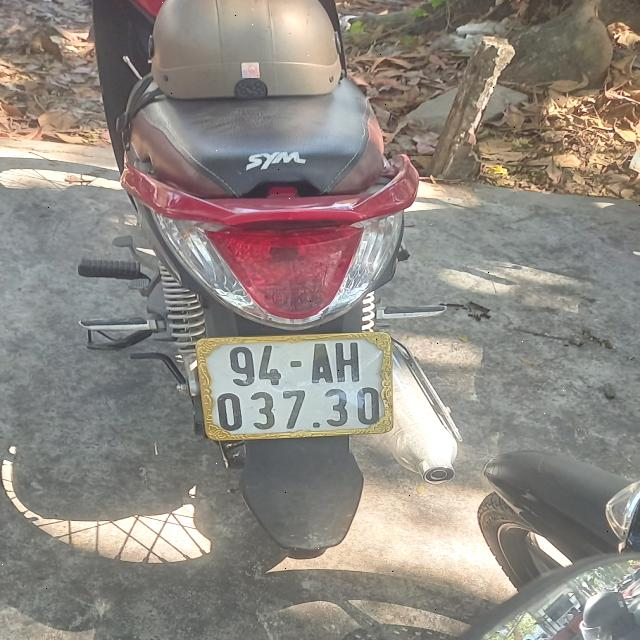0: (215, 393, 243, 431), (357, 386, 382, 425)
3: (250, 391, 278, 431), (324, 388, 349, 428)
4: (258, 344, 284, 386)
7: (282, 388, 307, 430)
9: (229, 344, 257, 386)
A: (313, 343, 333, 385)
H: (334, 341, 362, 384)
